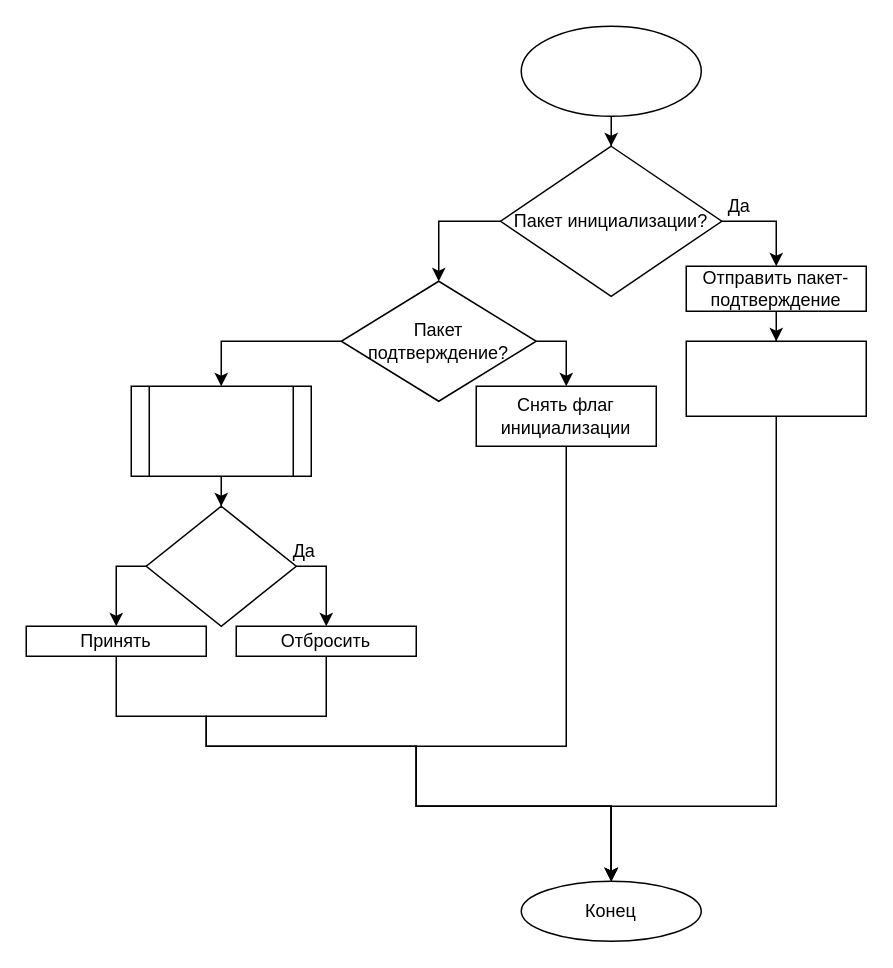
This 893x968 diagram has some shape labels left out. The shapes that lost their labels are listed below. From the top down, each one's box as (x1, y1, x2, y2) in pixels, then its label:
(520, 25, 701, 116): Начало
(685, 340, 866, 416): Обнулить отслеживаемые пакеты
(130, 385, 311, 476): Проверить пакет на дублирование
(145, 505, 296, 626): Дублирован?
